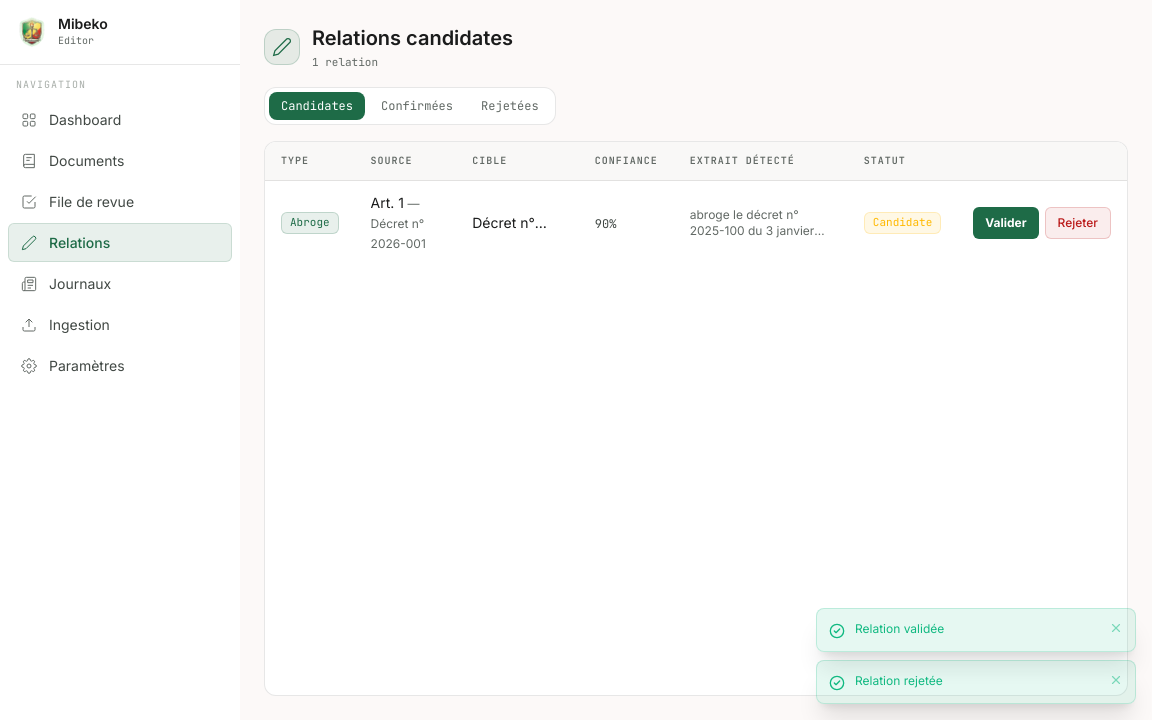
filtre par onglet de statut
Expected: the text "Abroge" is shown, x1=281 y1=212 x2=339 y2=234
Step 1. Click the button "Confirmées" → click(417, 106), box x1=369 y1=92 x2=465 y2=120
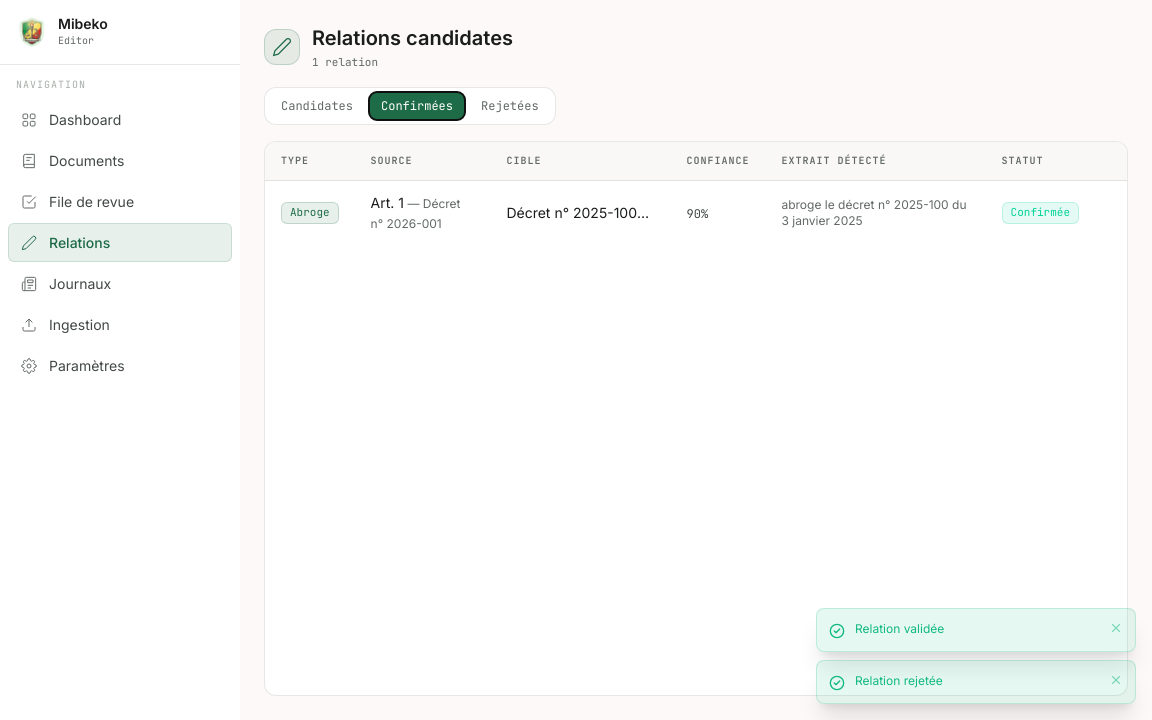
Expected: the text "Confirmée" is shown, x1=1002 y1=202 x2=1079 y2=224
